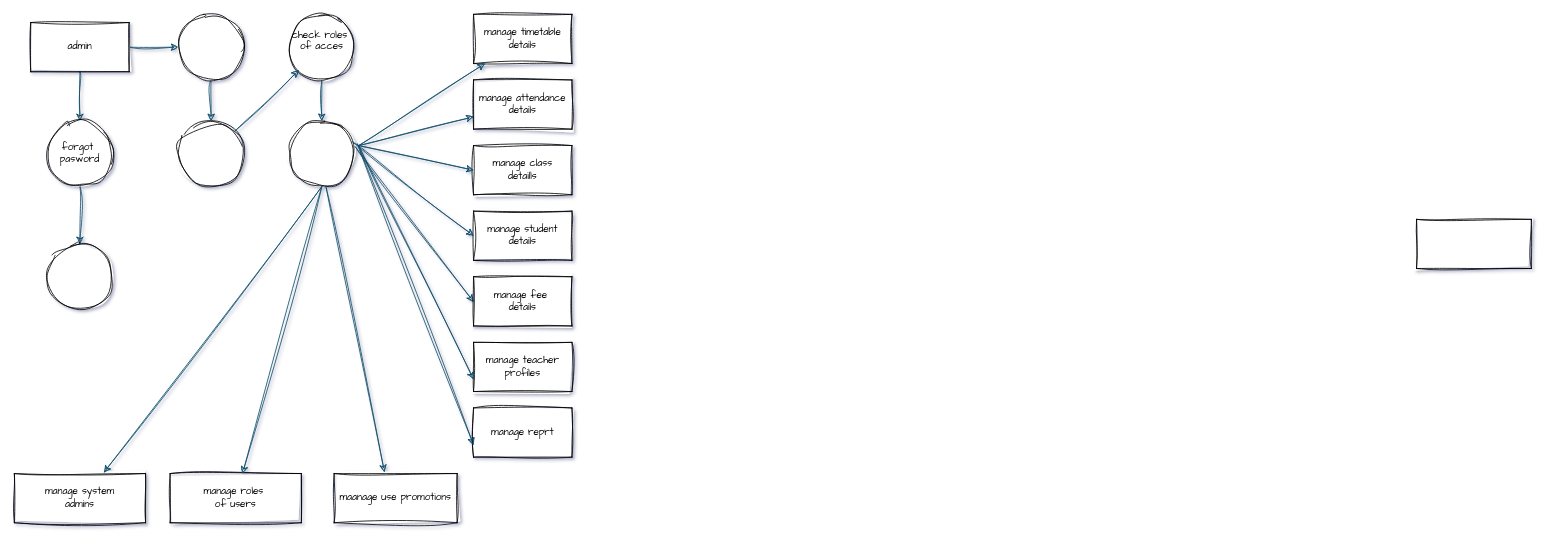
This 1551x542 diagram has some shape labels left out. The shapes that lost their labels are listed below. From the top down, each one's centre as x and y in pixels, then its label:
At [211,47]: "login to system".
At [211,153]: "check credensials".
At [321,153]: "manage modules".
At [79,276]: "send email to users".
